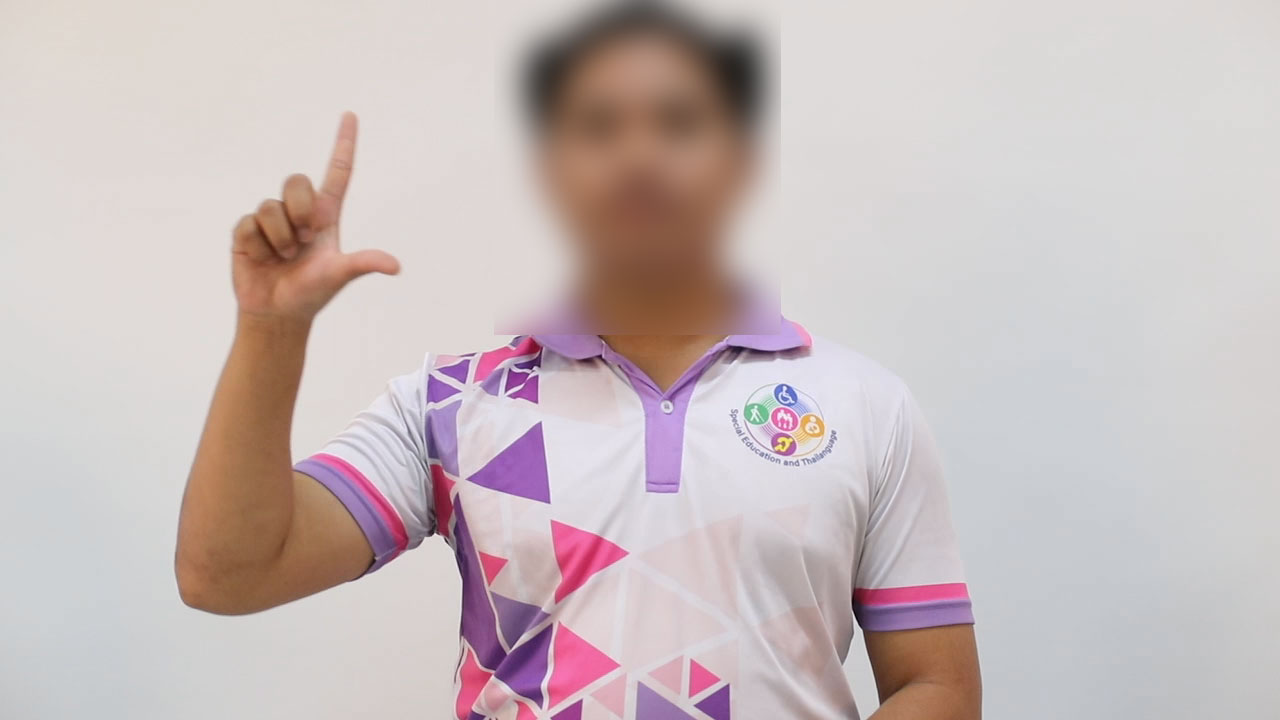lor: (216, 95, 421, 339)
